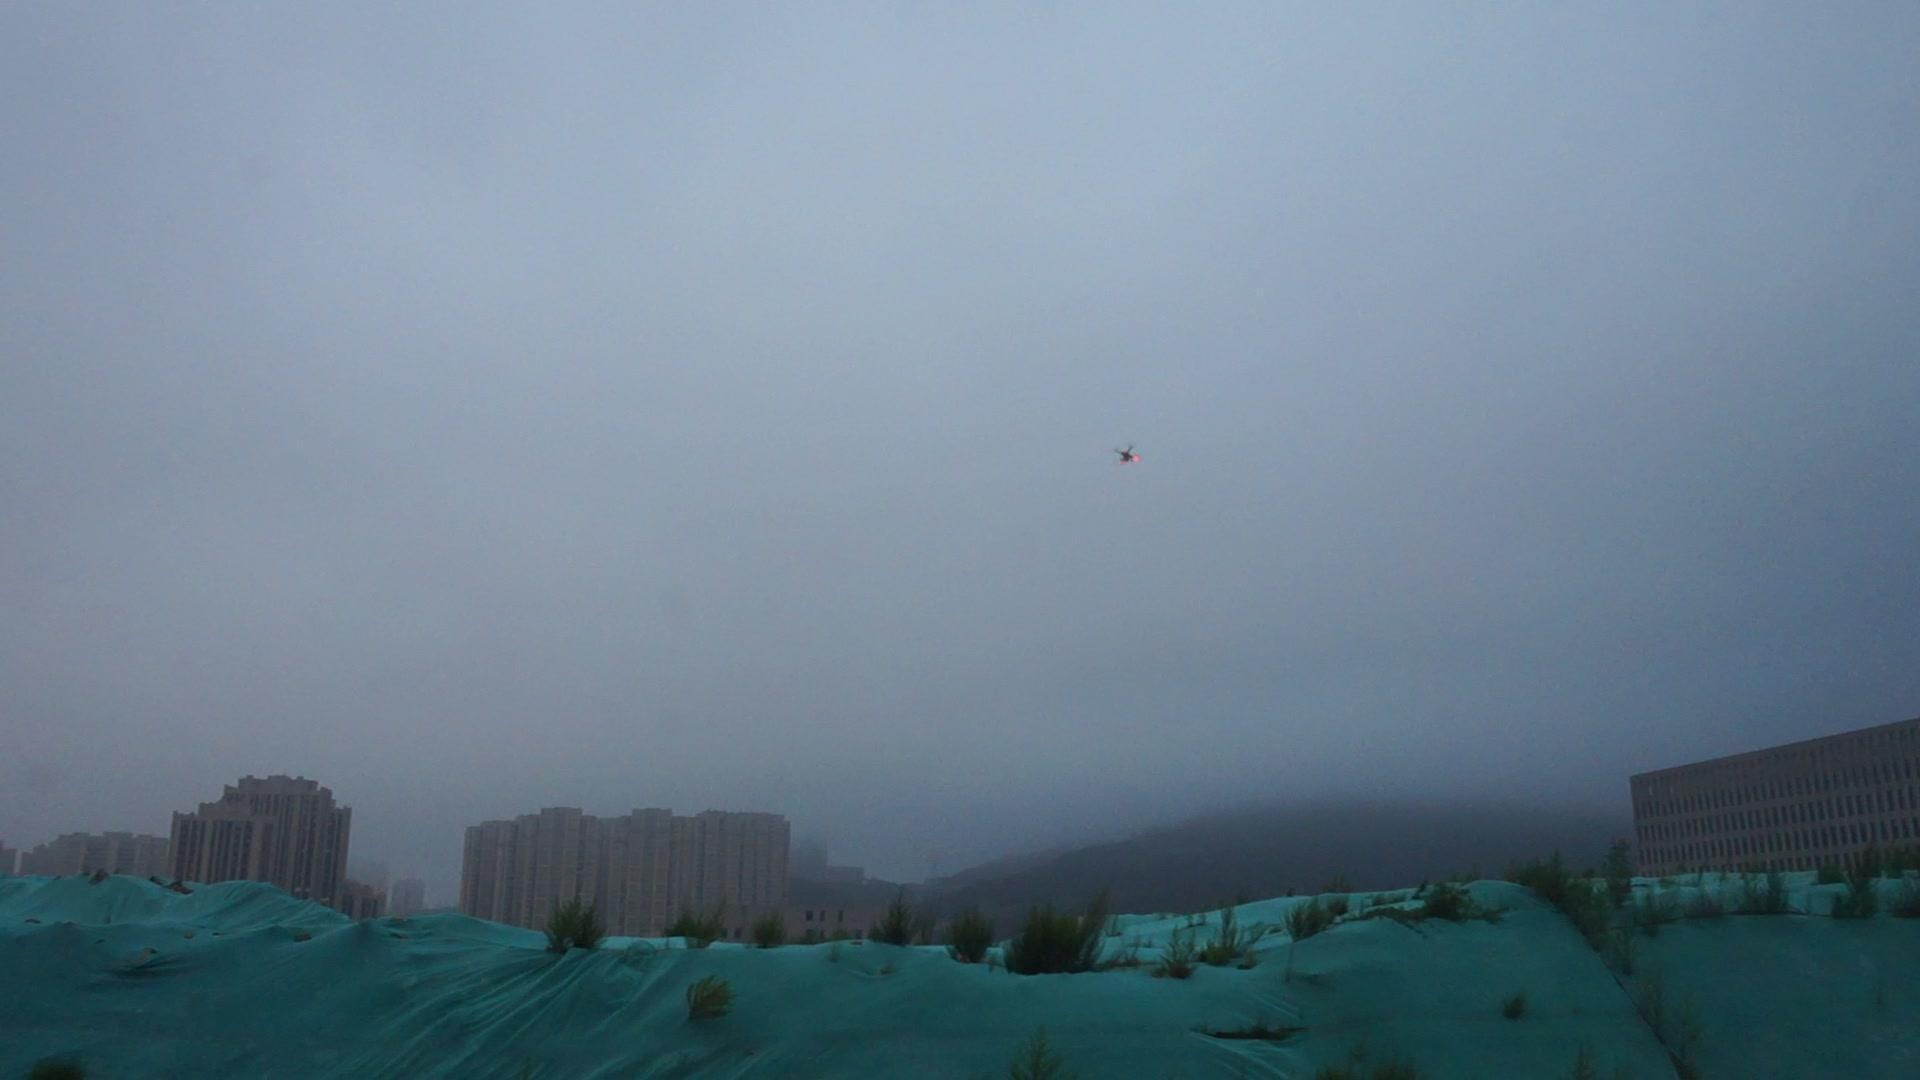UAV: (1116, 446, 1142, 465)
